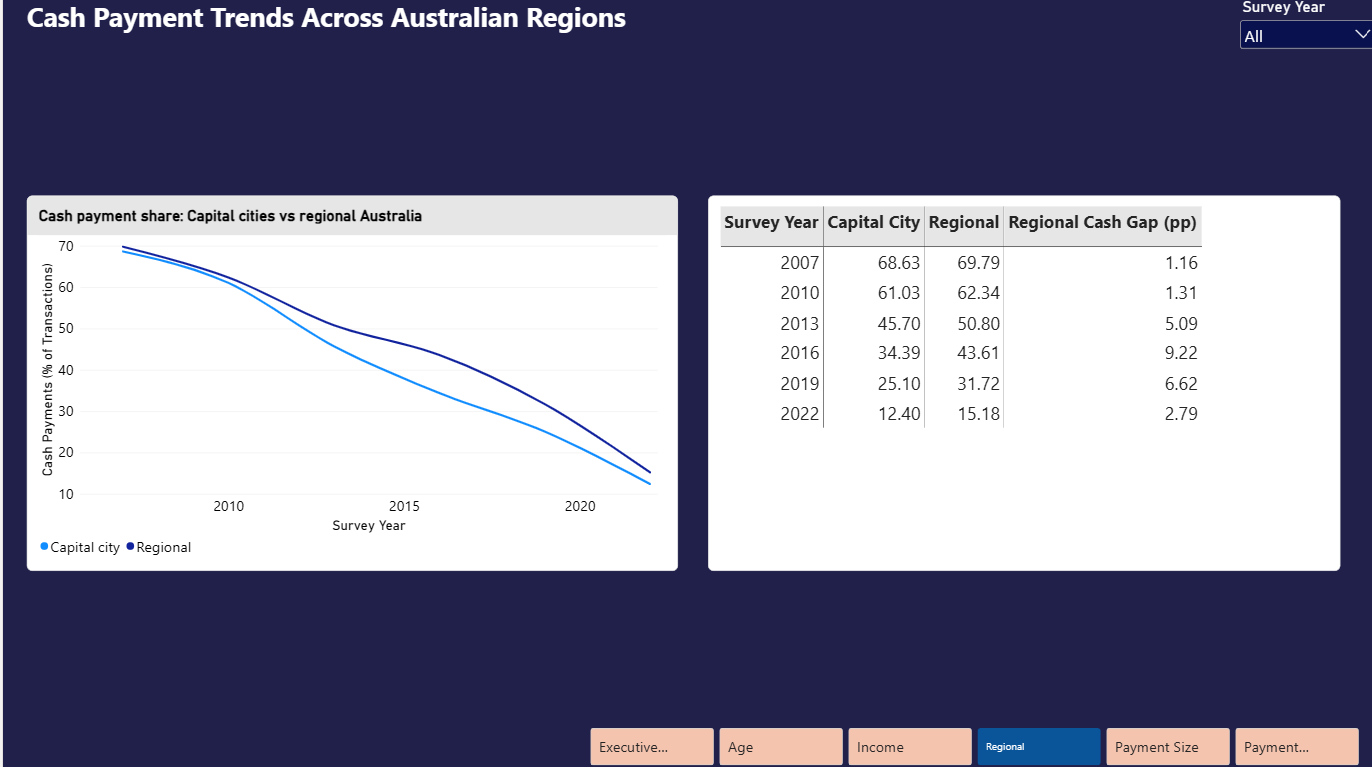

The dashboard page shown, as its layout file describes it:
{"tool":"powerbi","page":{"name":"Regional","canvas":[1920,1080],"ordinal":3},"visuals":[{"type":"lineChart","title":"Cash payment share: Capital cities vs regional Australia","fields":{"Category":["Region.Survey Year"],"Series":["Region.Demographic"],"Y":["Avg(Region.Payment Share)"]},"box":[32.9,275.8,908.9,523.8],"z":0},{"type":"tableEx","fields":{"Values":["Region.Survey Year","Region.Capital City","Region.Regional","Region.Regional Cash Gap (pp)"]},"box":[983.9,275.8,882.7,523.8],"z":1000},{"type":"textbox","box":[33.6,0,1046.1,108],"z":2001},{"type":"pageNavigator","box":[819.9,1018.4,1076.7,52.5],"z":2002},{"type":"slicer","fields":{"Values":["Region.Survey Year"]},"box":[1568.4,107,352,148.2],"z":2003}]}

Visuals, with their boxes in screenshot pixels (x1, y1, x2, y2), scaled from the page's 1920x1080 canvas onto the 1372x767 screenshot:
"Cash payment share: Capital cities vs regional Australia" lineChart: 24 196 673 568
tableEx - Region.Survey Year x Region.Capital City: 703 196 1334 568
textbox: 24 0 772 77
pageNavigator: 586 723 1355 761
slicer - Region.Survey Year: 1121 76 1371 181
